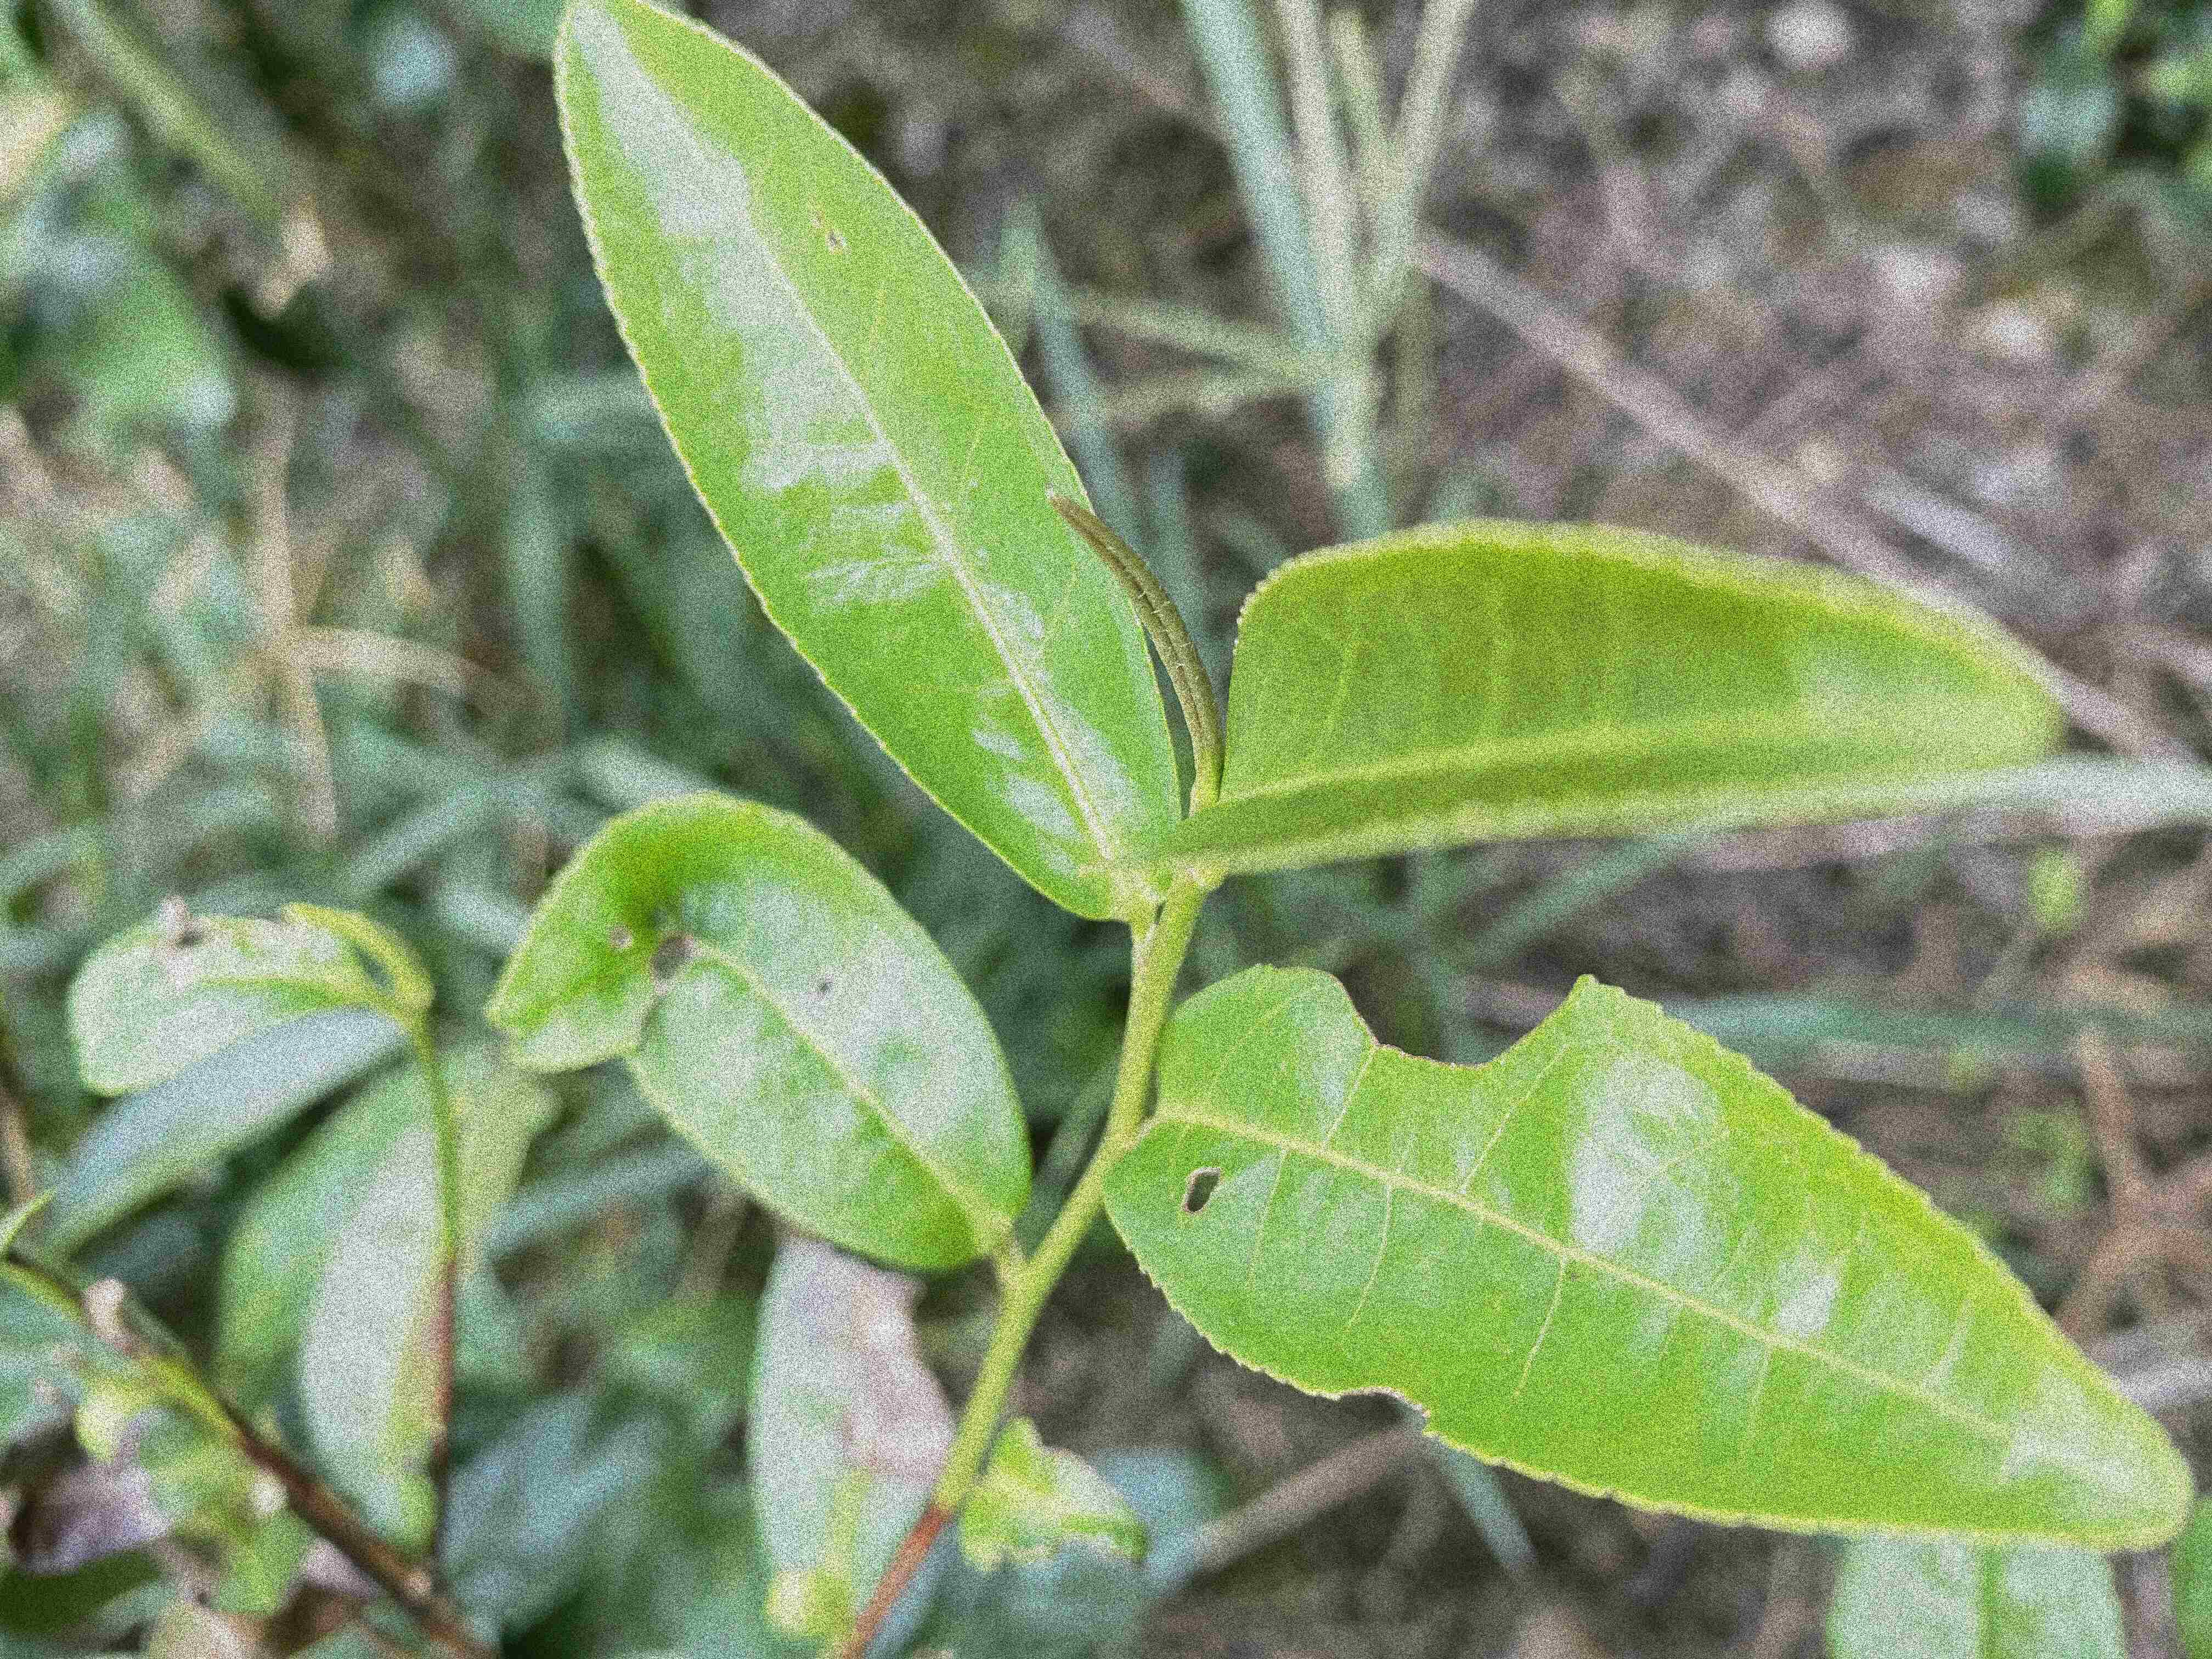chihuo_high: (1101, 960, 2195, 1547)
healthy: (1080, 521, 2041, 882)
tanju_low: (550, 0, 1183, 924)
